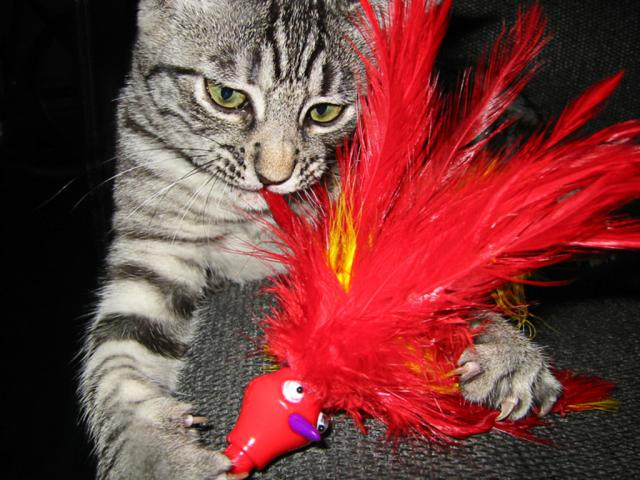Cat: (50, 0, 564, 479)
